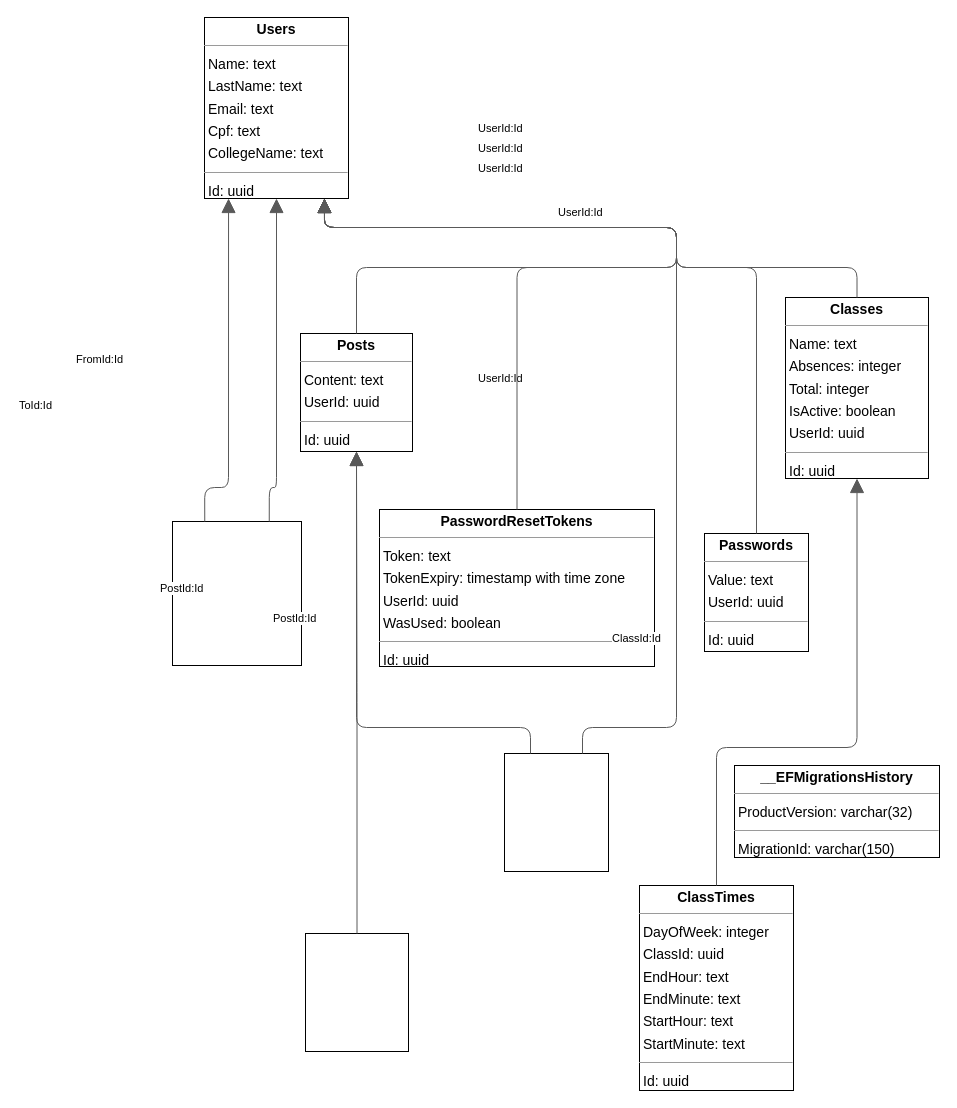
Image size: 957x1108. Some labels were removed from this diagram. Each missing label, with the box of its shape:
ChatMessages Text: text ToId: uuid FromId: uuid Id: uuid: (172, 520, 302, 666)
Comments Text: text PostId: uuid Id: uuid: (304, 932, 408, 1052)
Likes PostId: uuid UserId: uuid Id: uuid: (504, 752, 608, 872)
